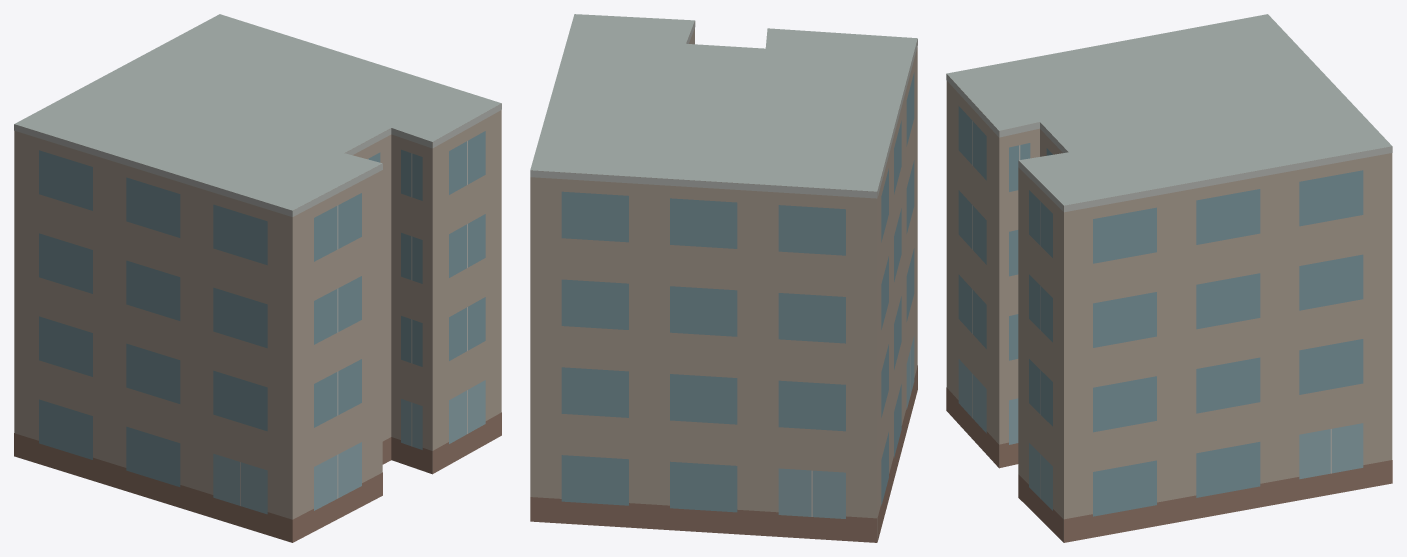
Rendered from survey-upis-32866120.glb.
3 views of the same model, side by side, from view 1: azimuth 30°, elevation 25°; view 2: azimuth 150°, elevation 25°; view 3: azimuth 270°, elevation 25° (orthographic). The views are drawn at different scales.
Parts seen in each view (by area): view 1: survey-upis-32866120.tmp; view 2: survey-upis-32866120.tmp; view 3: survey-upis-32866120.tmp.
Part boxes in pixels (x1,y1,x2,y2): survey-upis-32866120.tmp: (14, 14, 501, 542); survey-upis-32866120.tmp: (530, 14, 917, 542); survey-upis-32866120.tmp: (946, 14, 1392, 542).
Size of the model in its own units: 15.19 by 12.45 by 14.94.
